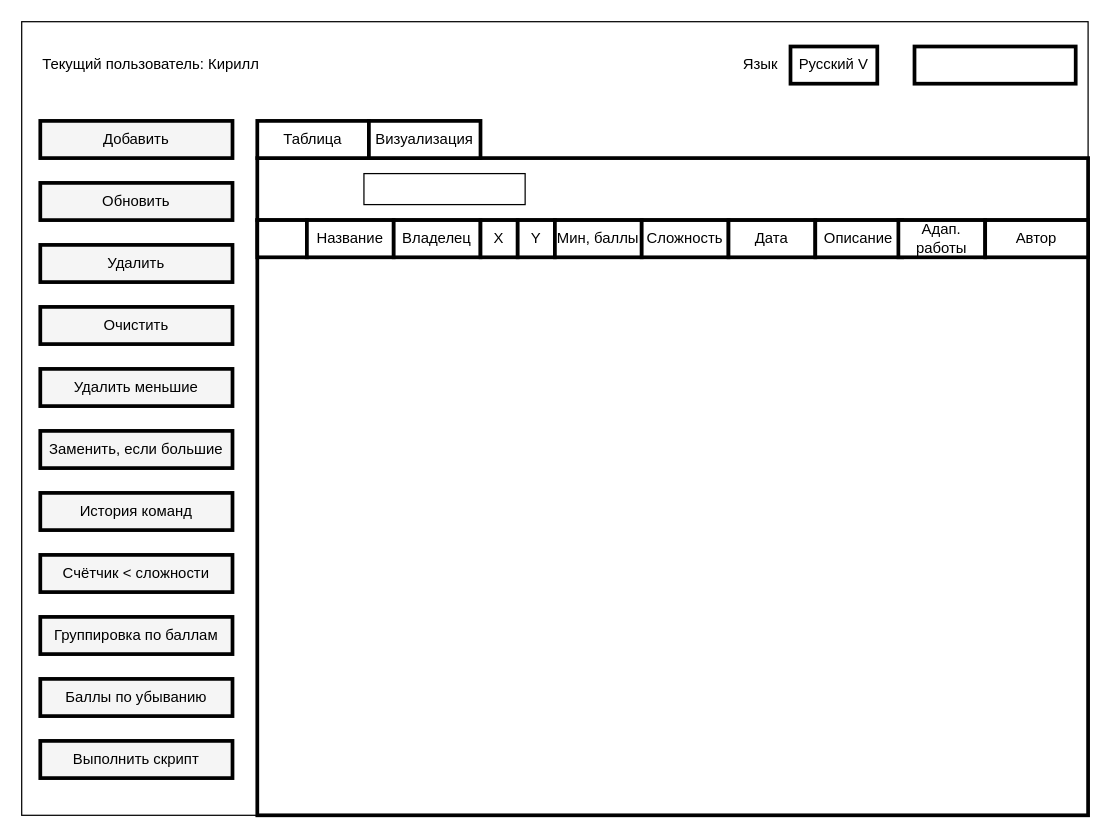
The diagram is 1111 pixels wide and 838 high, and some of its shapes have lost their labels. Each missing label, with the box of its shape:
ID: (255, 218, 308, 259)
Смена пользователя: (912, 44, 1077, 85)
Фильтрация:: (255, 156, 1089, 221)
